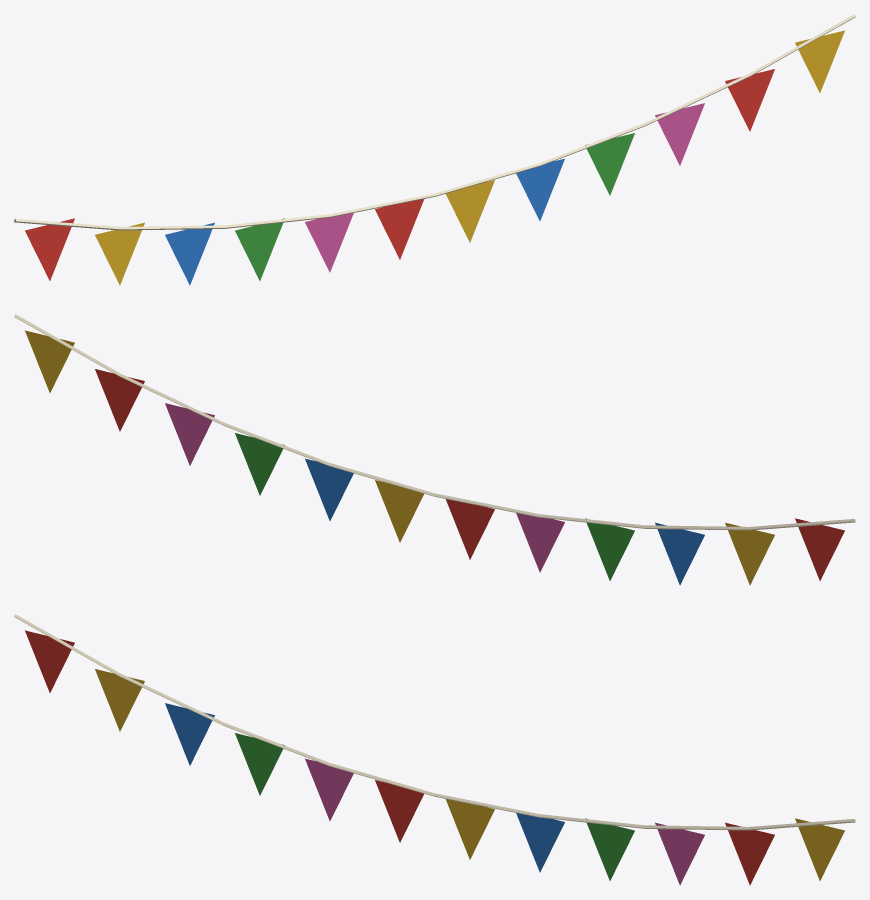
Rendered from bank_garland.glb.
3 views of the same model, one above another, from view 1: azimuth 30°, elevation 25°; view 2: azimuth 150°, elevation 25°; view 3: azimuth 330°, elevation 25° (orthographic).
Visible parts, largest first — view 1: pennants, cord_garland_cord; view 2: pennants, cord_garland_cord; view 3: pennants, cord_garland_cord.
Part boxes in pixels (left/top/right/bottom): pennants: left=25, top=30, right=844, bottom=285; cord_garland_cord: left=14, top=14, right=855, bottom=230; pennants: left=25, top=330, right=844, bottom=585; cord_garland_cord: left=14, top=314, right=855, bottom=530; pennants: left=25, top=630, right=844, bottom=885; cord_garland_cord: left=14, top=614, right=855, bottom=830.
Size of the model in its own units: 4 by 0.6152 by 0.016.
